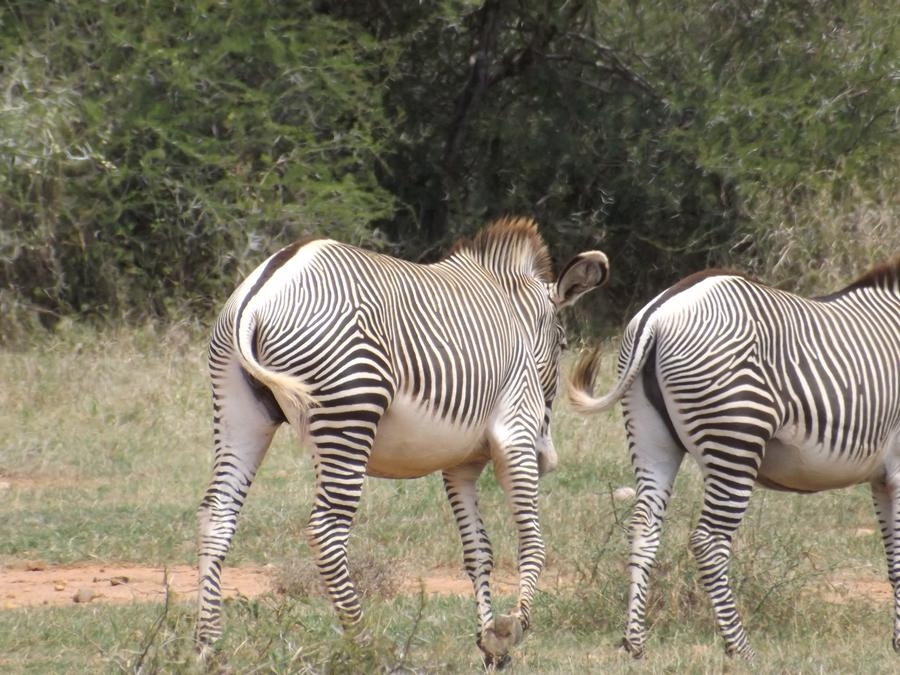zebra_grevys: (651, 272, 890, 476)
